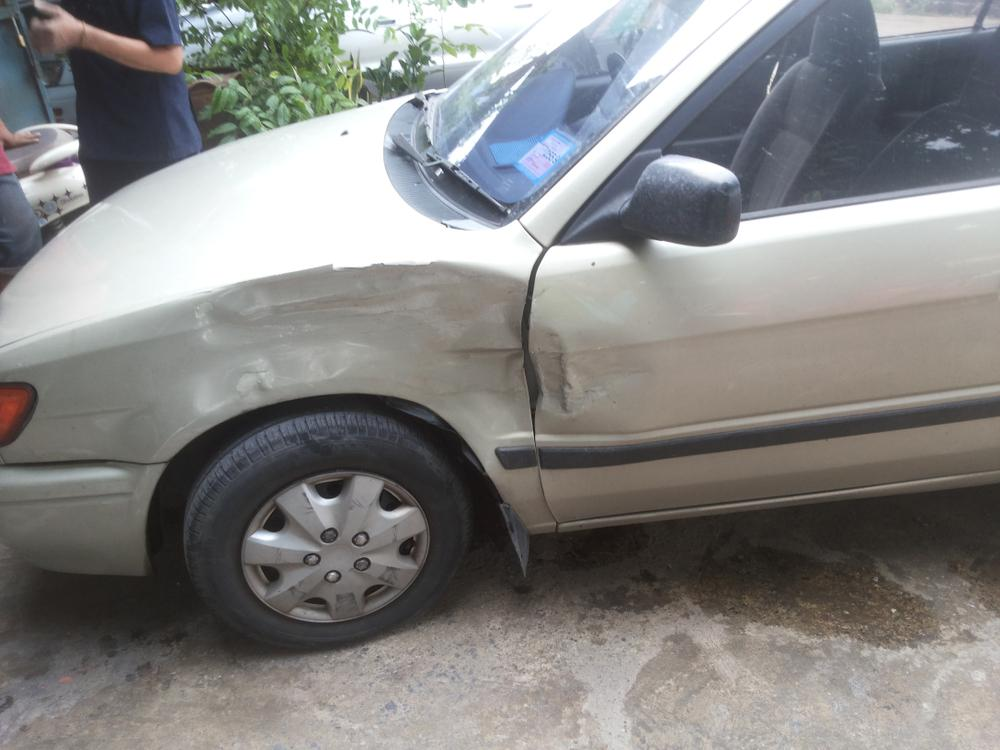dent: (188, 261, 534, 459), (531, 324, 650, 416)
